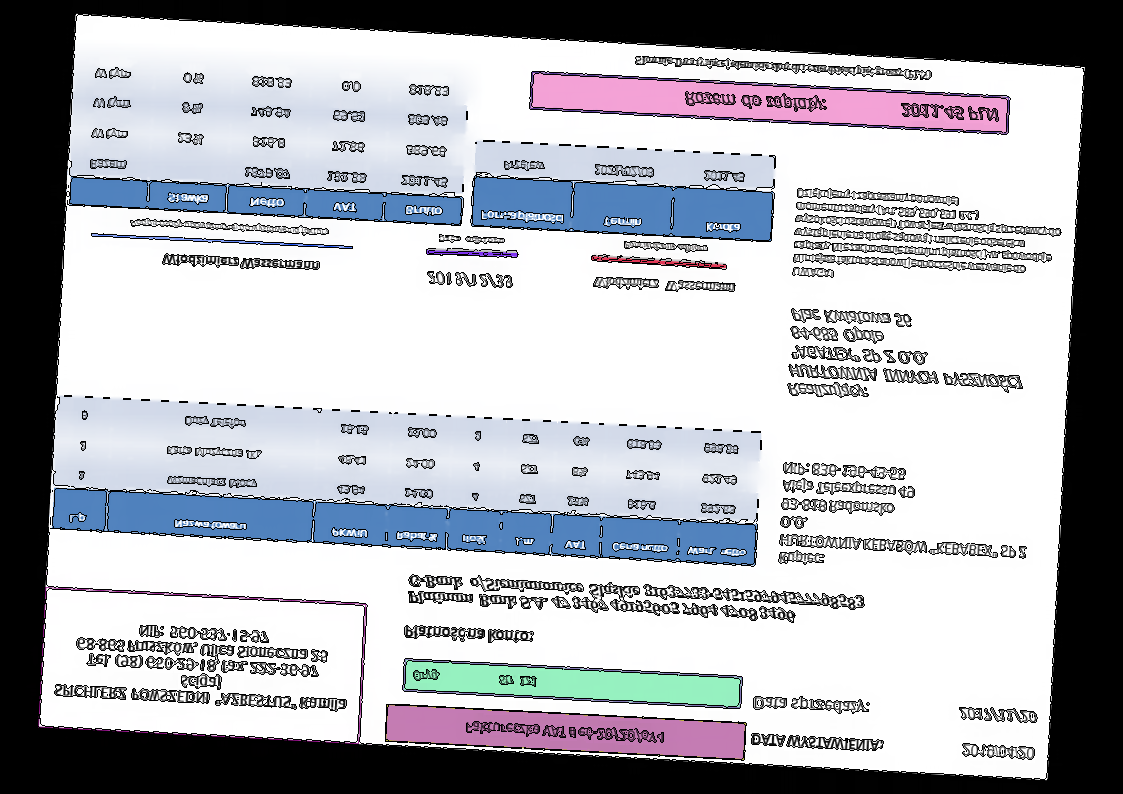Table: (49, 393, 765, 569), (67, 52, 472, 228), (469, 138, 779, 244)
TextBox: (776, 457, 1033, 579), (404, 567, 870, 631), (51, 617, 354, 715), (790, 186, 1067, 293), (783, 302, 1029, 413), (680, 85, 1002, 127), (631, 51, 935, 85), (460, 717, 666, 748), (126, 215, 332, 242), (159, 249, 323, 279), (402, 619, 536, 649), (750, 729, 887, 758), (588, 273, 739, 299), (752, 692, 872, 718), (411, 667, 540, 691), (423, 267, 515, 293), (955, 703, 1039, 727), (959, 741, 1038, 764), (620, 238, 710, 256), (433, 231, 508, 251)
